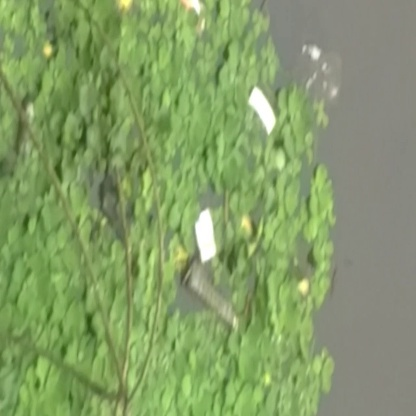leaf: (306, 164, 341, 231)
